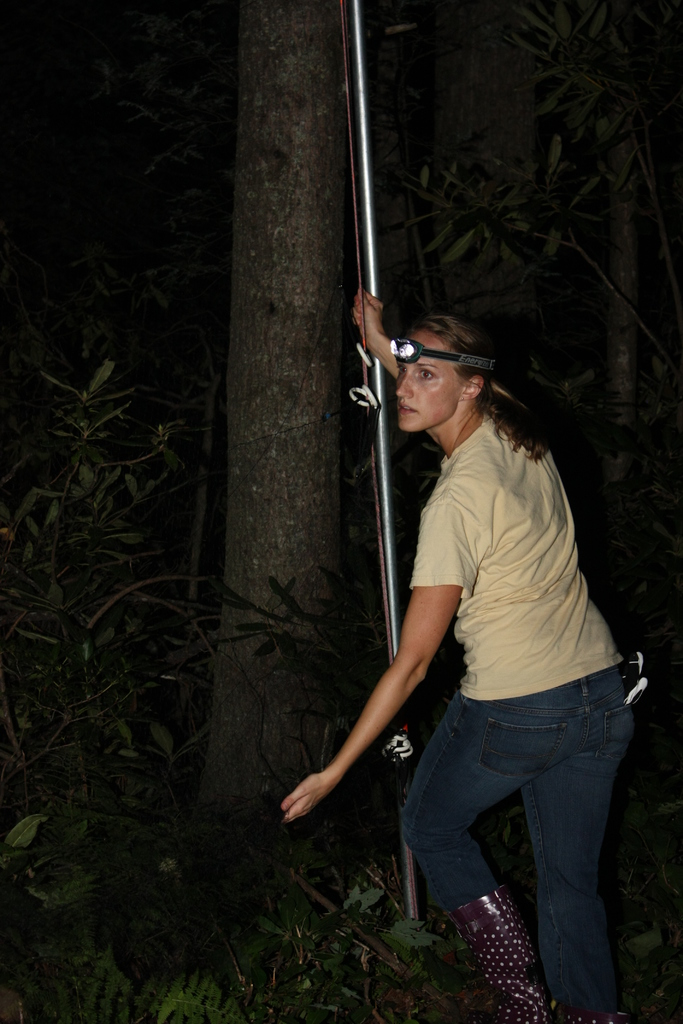Tree: (0, 0, 678, 874)
